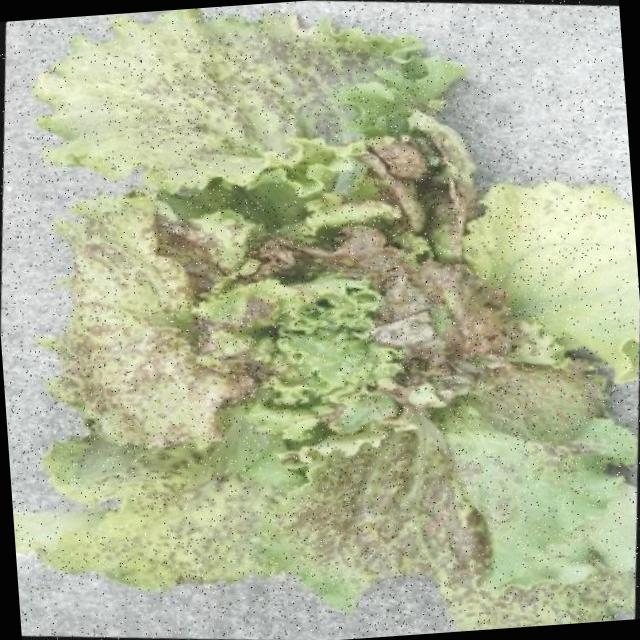Bacterial: (43, 58, 494, 604)
